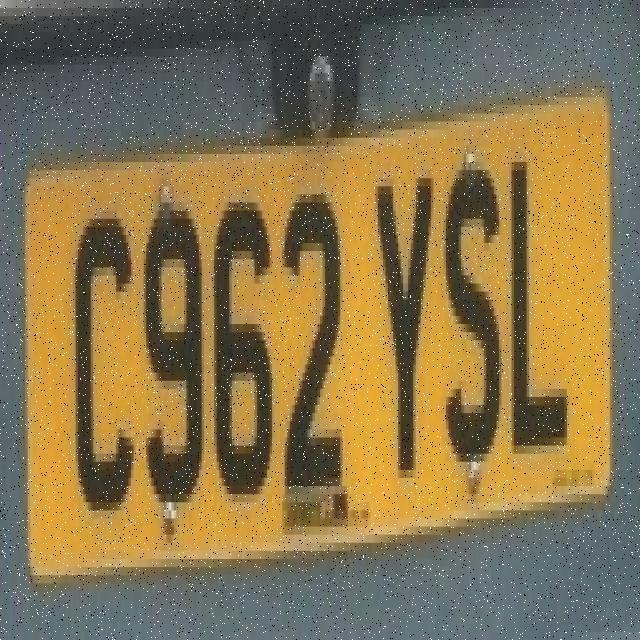LicensePlate: (16, 63, 627, 588)
